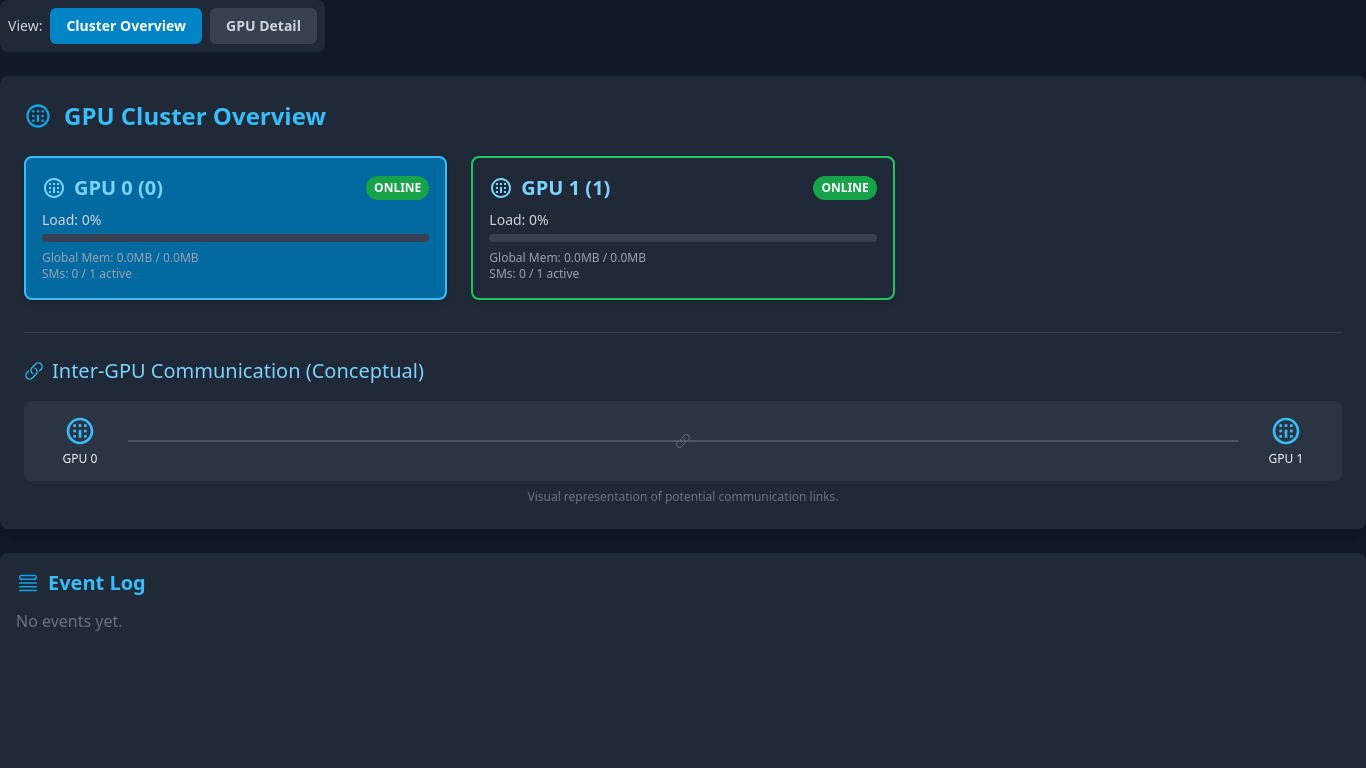
Test: DashboardLayout view switching › switches views when buttons are clicked
The image size is (1366, 768).
Expected: the heading "GPU Cluster Overview" is shown, [24,99,326,132]
Click the button "GPU Detail" at point(263, 26), box [210,8,317,44]
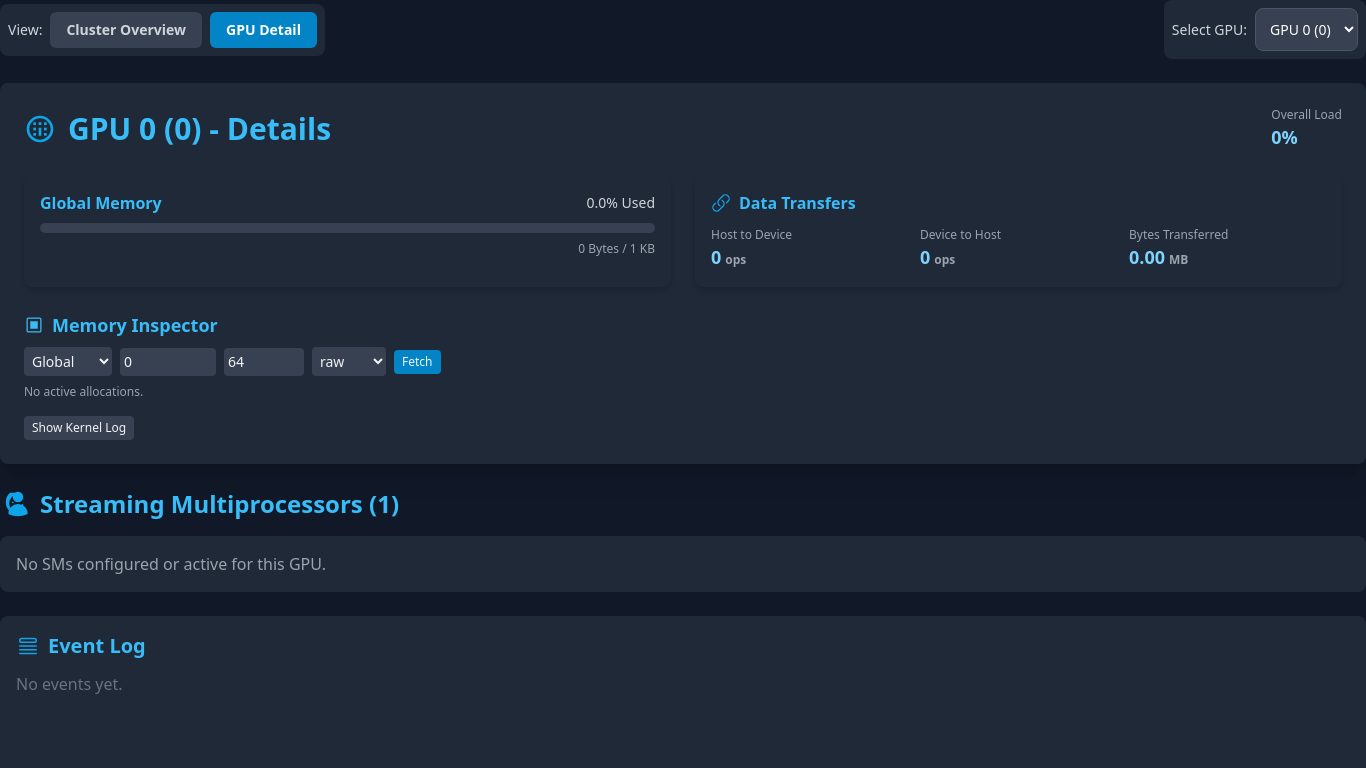
Expected: the heading "GPU 0 (0) - Details" is shown, [24,111,331,147]
Click the button "Cluster Overview" at point(126, 30), box [50,12,202,48]
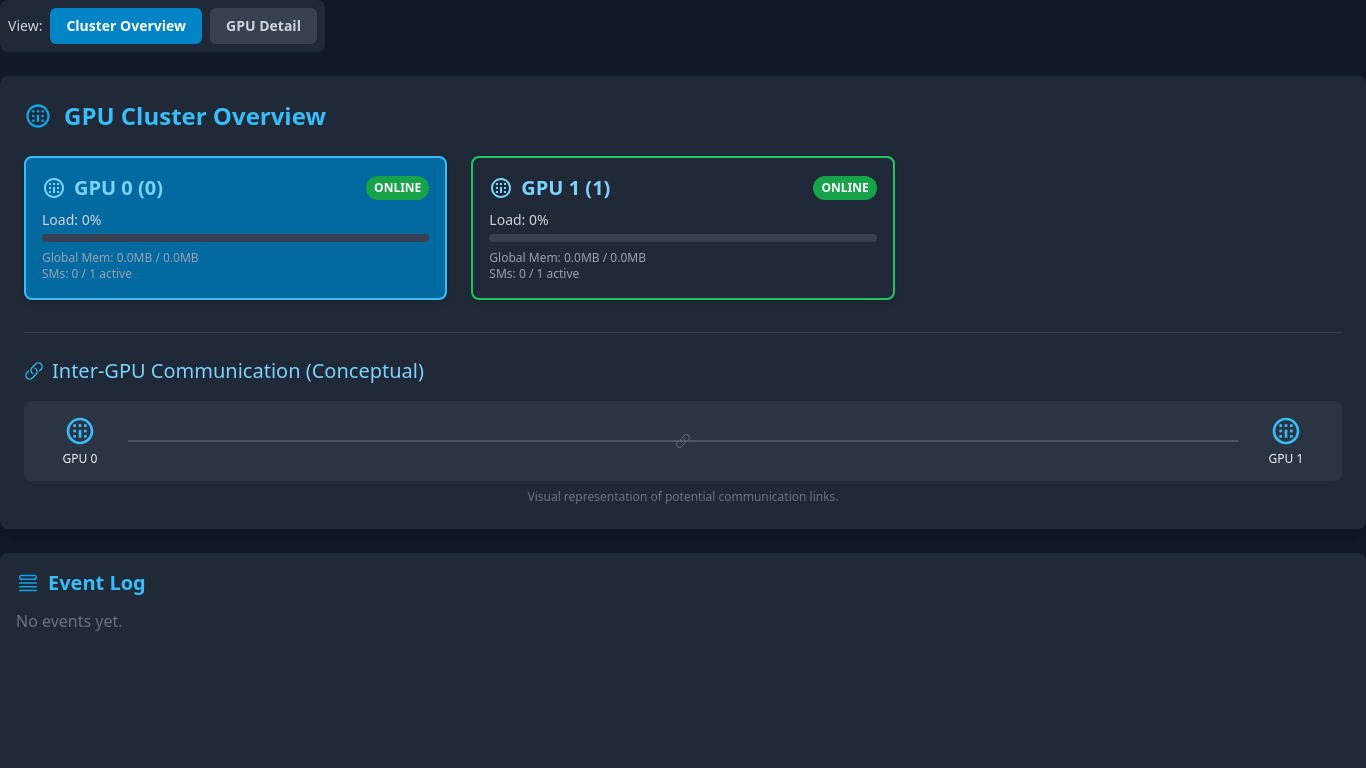
Expected: the heading "GPU Cluster Overview" is shown, [24,99,326,132]
